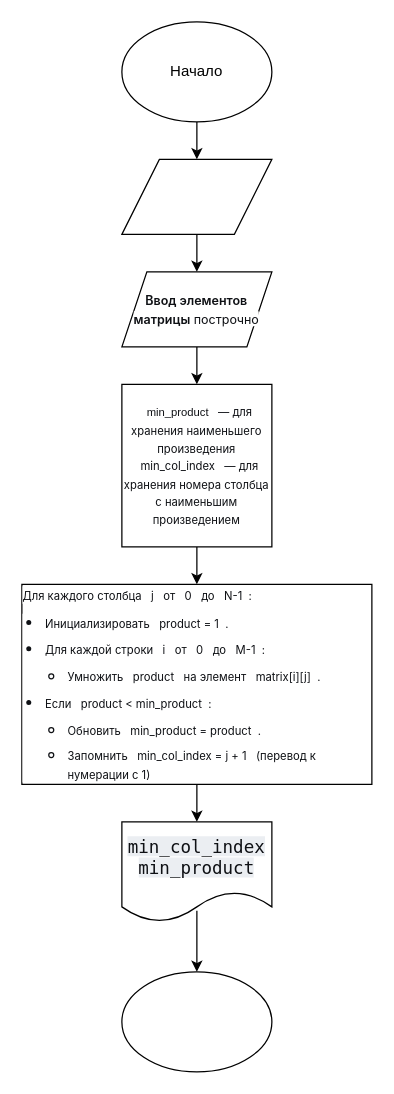
The diagram is 394 pixels wide and 1094 high, and some of its shapes have lost their labels. The centre of each missing label's shape, as x and y in pixels:
Ввод размеров матрицы M (строки) и N (столбцы): the point at 196,196
Конец: the point at 196,1021
